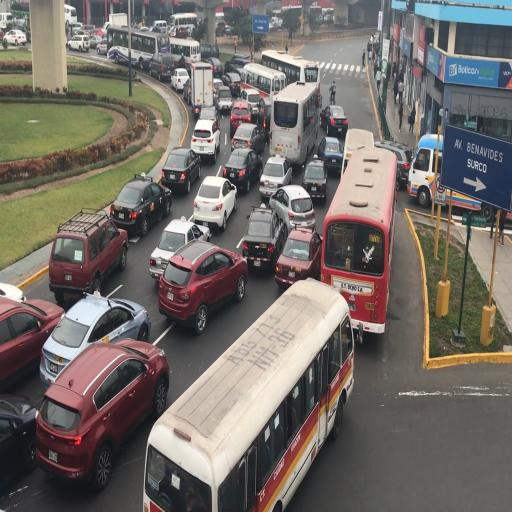auto: (37, 338, 168, 492), (41, 289, 151, 382), (158, 240, 248, 330), (48, 206, 128, 302), (0, 292, 66, 396), (34, 381, 95, 487), (110, 173, 171, 238), (0, 395, 40, 494), (150, 219, 210, 281), (275, 224, 322, 290), (241, 204, 283, 273), (192, 174, 236, 232), (269, 183, 315, 235), (159, 148, 200, 196), (223, 146, 262, 194), (376, 138, 410, 190), (259, 154, 293, 200), (190, 115, 221, 161), (232, 92, 263, 134), (230, 122, 264, 156), (316, 135, 343, 177), (320, 104, 348, 137), (150, 52, 176, 82), (108, 44, 139, 67), (212, 85, 233, 118), (222, 70, 243, 98), (0, 280, 25, 302), (224, 55, 250, 76), (204, 56, 224, 81), (171, 68, 190, 92), (2, 30, 27, 46), (68, 34, 90, 52), (182, 78, 194, 106), (149, 19, 169, 33), (72, 28, 91, 42), (88, 33, 104, 49), (13, 13, 29, 29), (213, 78, 225, 99), (81, 24, 99, 37), (96, 39, 109, 56), (101, 21, 114, 36), (215, 21, 227, 36), (71, 24, 83, 36), (0, 18, 9, 31)
bus: (189, 60, 214, 114)
moto: (144, 282, 344, 506), (320, 142, 394, 336), (406, 131, 497, 216), (268, 78, 318, 170), (260, 48, 318, 100), (242, 61, 284, 109), (340, 127, 373, 180), (168, 36, 198, 69), (104, 23, 130, 56), (168, 12, 199, 37), (108, 12, 129, 29), (64, 3, 78, 26)
